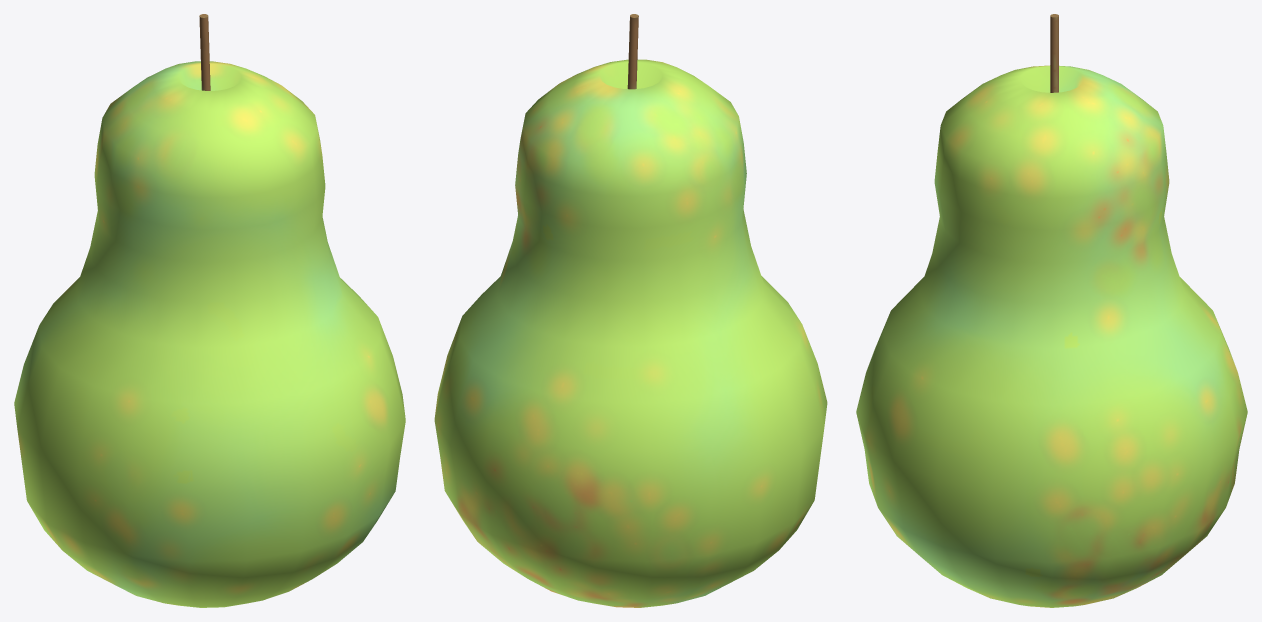
Rendered from pear.fbx.
3 views of the same model, side by side, from view 1: azimuth 30°, elevation 25°; view 2: azimuth 150°, elevation 25°; view 3: azimuth 270°, elevation 25° (orthographic).
Parts seen in each view (by area): view 1: pCylinder2; view 2: pCylinder2; view 3: pCylinder2.
Part boxes in pixels (<box>): pCylinder2: <box>14,14,405,607</box>; pCylinder2: <box>434,14,827,607</box>; pCylinder2: <box>856,14,1247,607</box>.
Bounding box in the file's own units: 3.38 × 5.44 × 3.38.
Materials: 1 (1 with a texture image).
